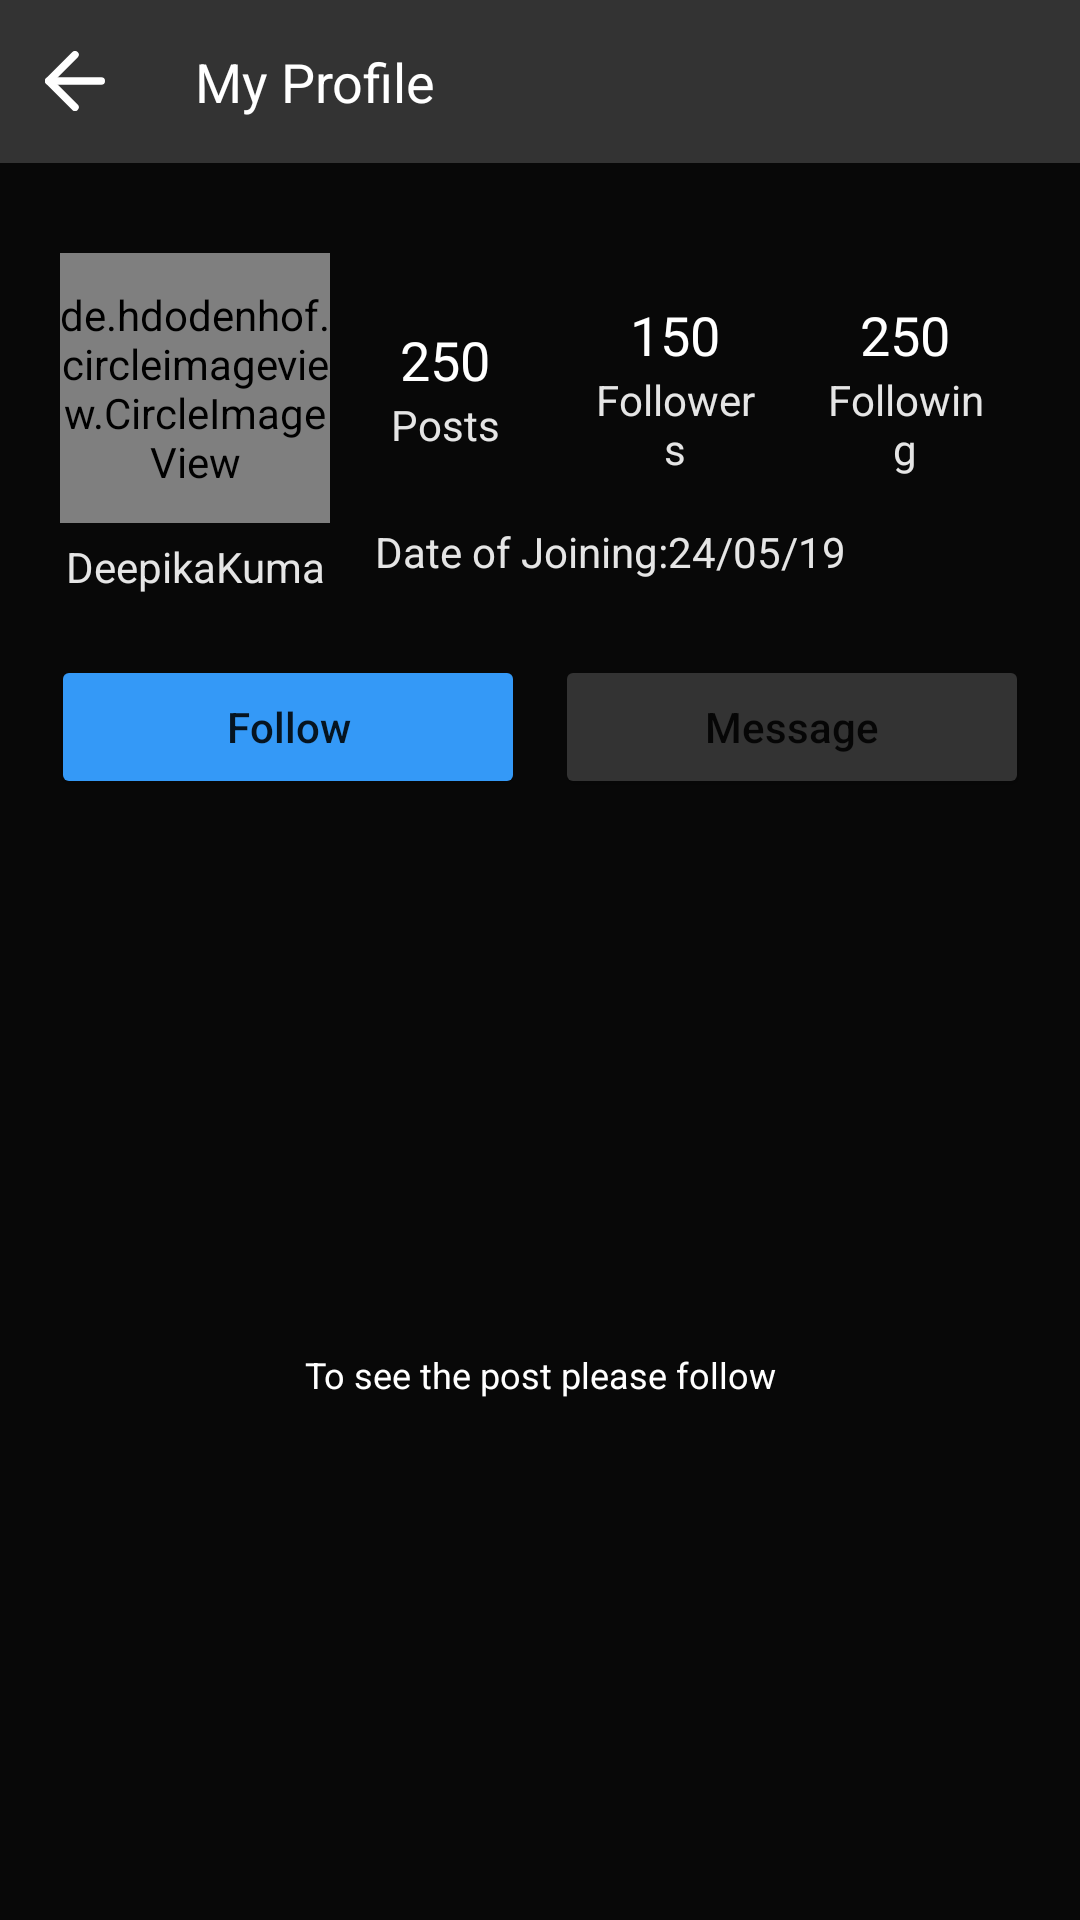

Icon bounding boxes for this 1080w x 1920h phone screenshot, format [x1,y1,x2,y2]:
back: [45,51,105,111]
